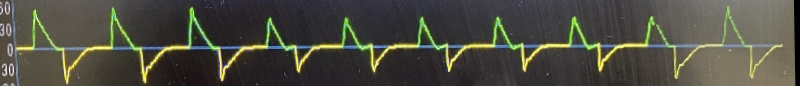normal_flow: (11, 7, 787, 81)
